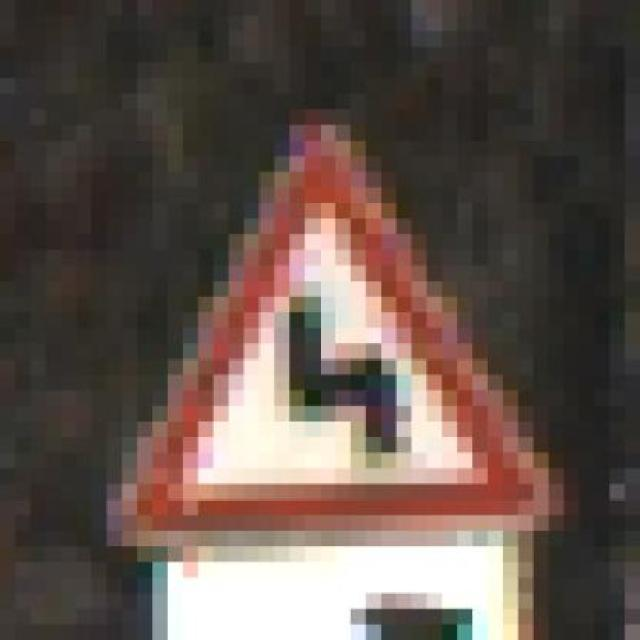Left Zig Zag Traffic: (91, 94, 564, 531)
